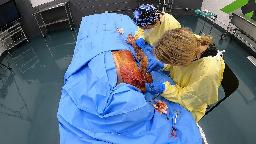scalpel: (167, 102, 169, 120), (144, 72, 148, 78)
